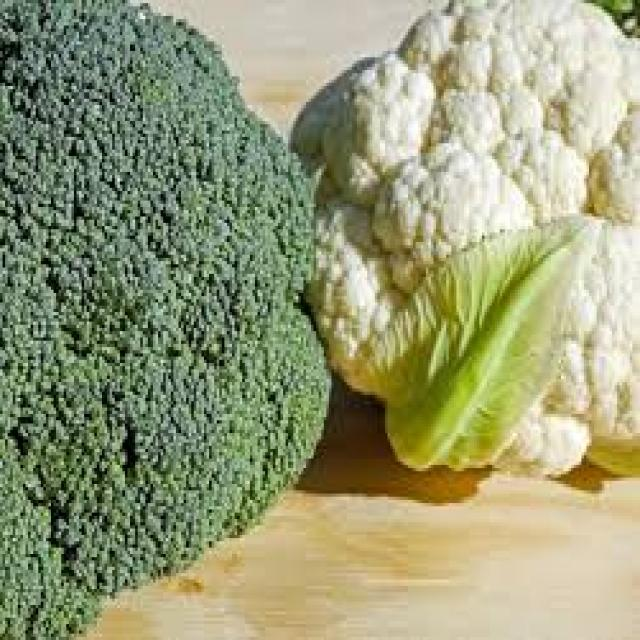organic waste: (0, 0, 326, 637), (286, 0, 638, 471)
